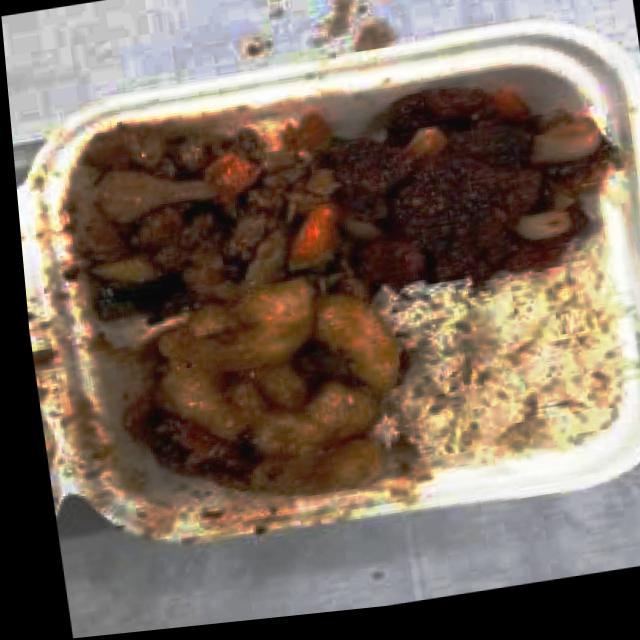Beijing Beef: (324, 58, 640, 287)
Kung Pao Chicken: (66, 94, 353, 315)
rice: (386, 256, 628, 458)
